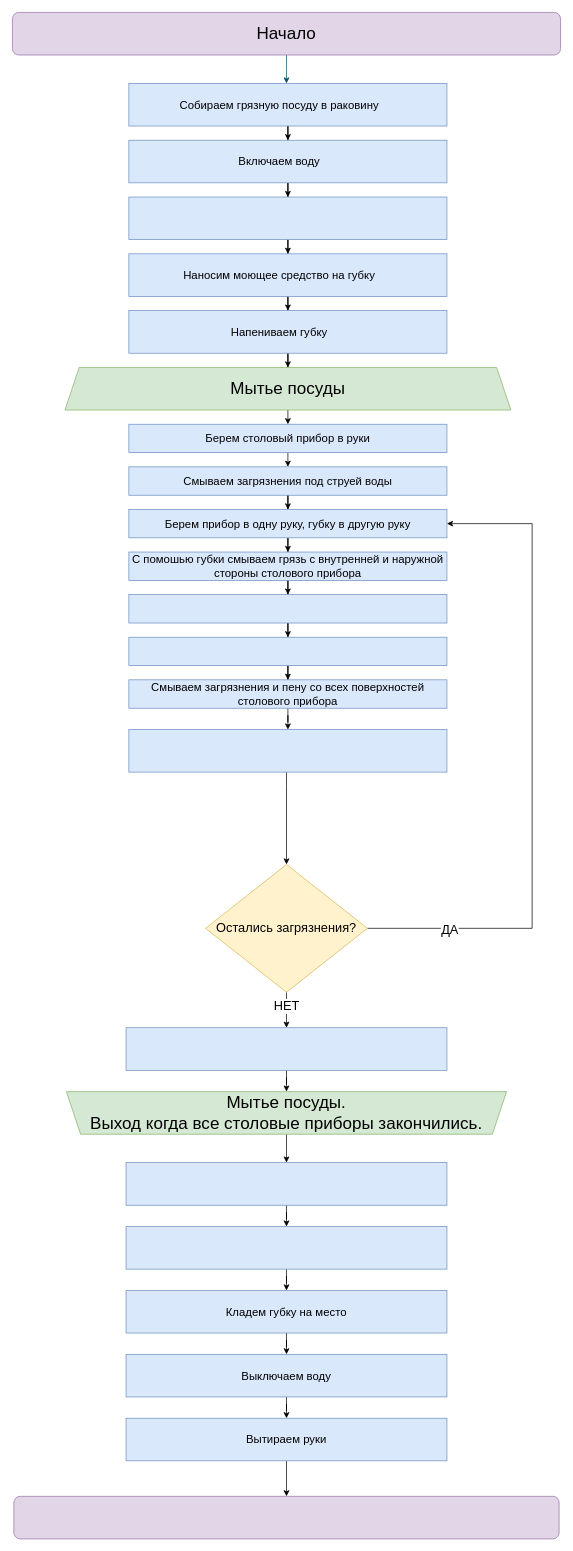
This 573x1551 diagram has some shape labels left out. Each missing label, with the centre of its shape:
"Берем столовый прибор в обе руки" goes at (287,651).
"Кладем губку на раковину" goes at (287,608).
"Конец" goes at (286,1517).
"Отжимаем губку" goes at (286,1247).
"Проверяем на наличие остатков загрязнений" goes at (287,750).
"Промываем губку под струей воды" goes at (286,1183).
"Смачиваем губку" goes at (287,218).
"Ставим столовый прибор в сушку" goes at (286,1048).
